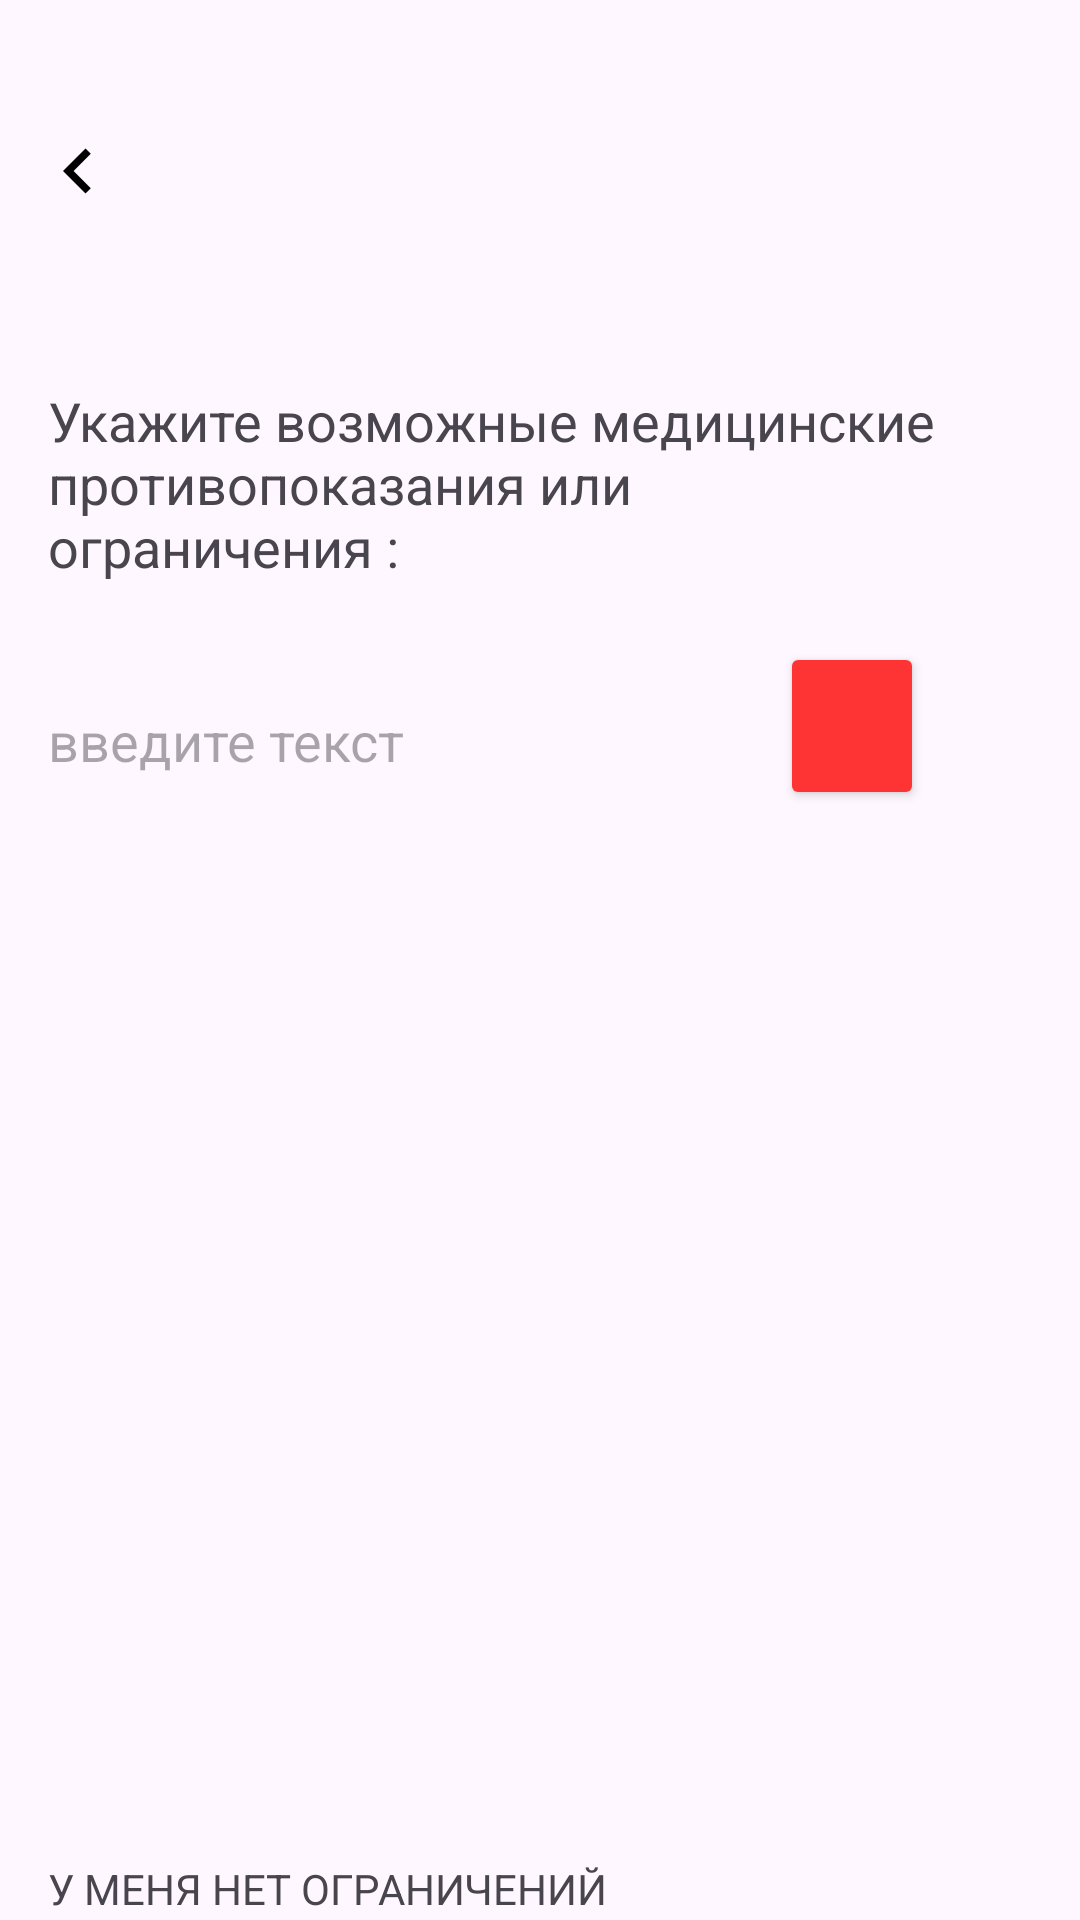

Icon bounding boxes for this 1080 × 1920 phone screenshot, format (x1, y1, x2, y2):
Нажмите, если хотите вернуться на предыдущий экран: (63, 148, 91, 194)
